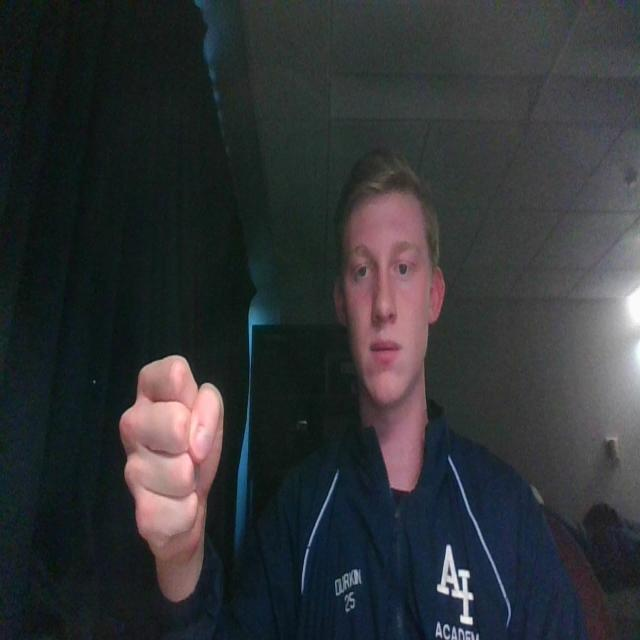rock: (111, 344, 228, 584)
